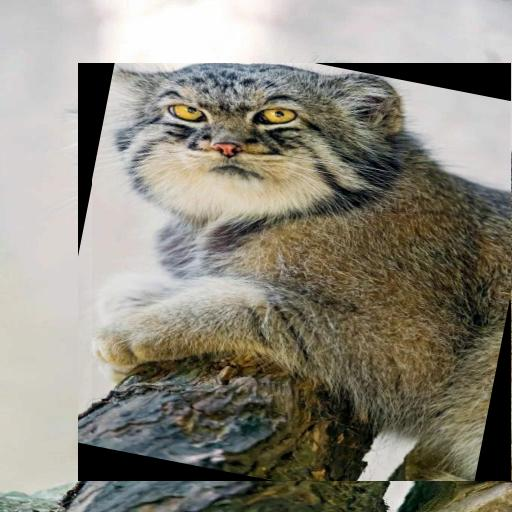manul: (93, 63, 510, 481)
